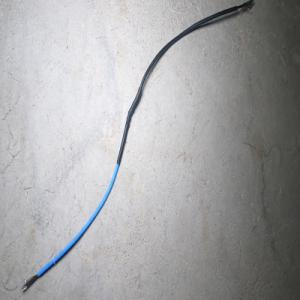Wire: (21, 0, 254, 292)
